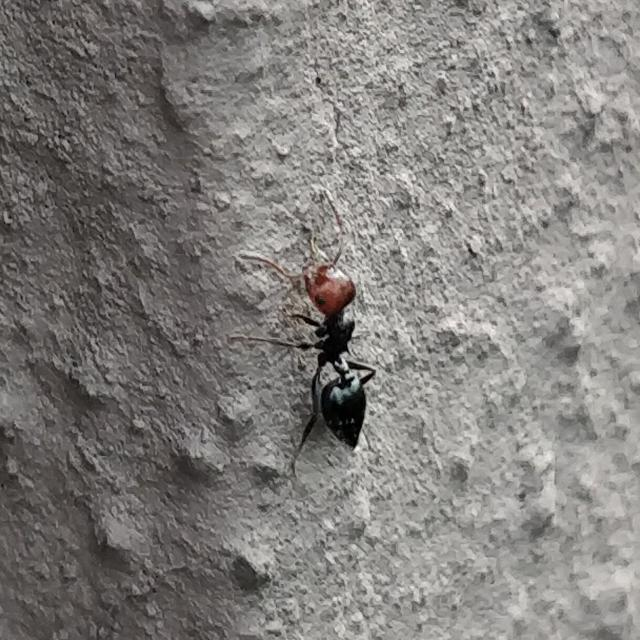Crematogaster: (283, 244, 382, 458)
